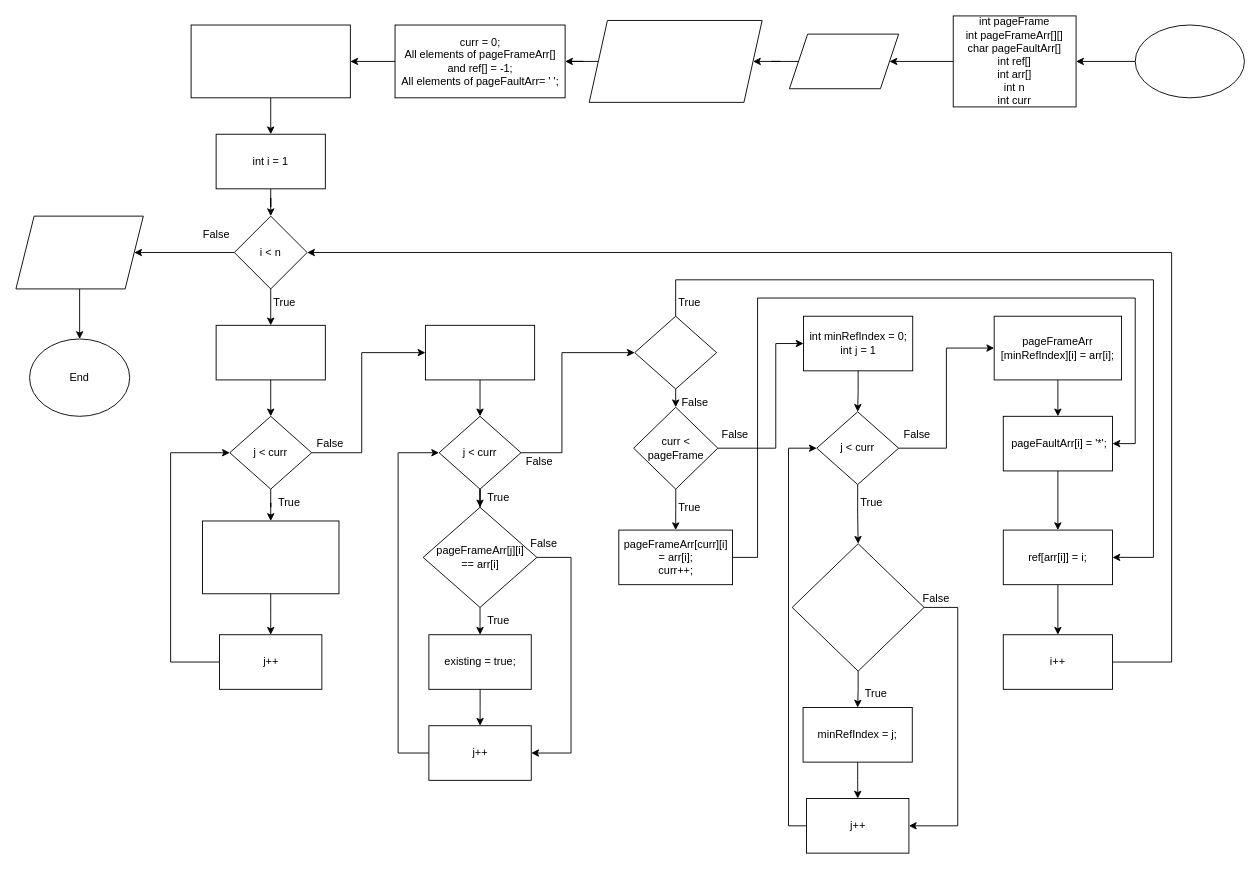
This 1260x869 diagram has some shape labels left out. The centre of each missing label's shape, as x and y in pixels:
Begin: point 1189,61
bool existing = false; int j = 0: point 480,352
existing: point 675,352
Export pageFrameArr[][]: point 79,252
Input n, arr[n]: point 844,61
input pageFrame, pageFrameArr[pageFrame][n]: point 675,61
int j = 0: point 270,352
pageFrameArr[0][0] = arr[0]; ref[arr[0]] = 0; pageFaultArr[0] = '*'; curr++;: point 270,61
pageFrameArr[j][i] = pageFrameArr[j][i - 1];: point 270,557
ref[pageFrameArr[j][i]] < ref[pageFrameArr [minRefIndex][i]]: point 857,607
